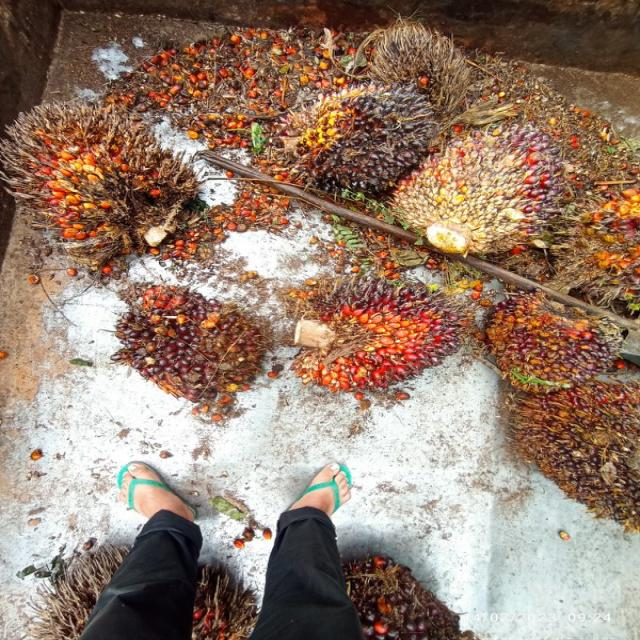fraksi 00: (290, 78, 432, 195)
fraksi 1: (400, 123, 565, 253), (117, 280, 264, 412), (481, 288, 621, 387)
fraksi 3: (296, 274, 470, 399)
fraksi 4: (4, 108, 208, 262)
